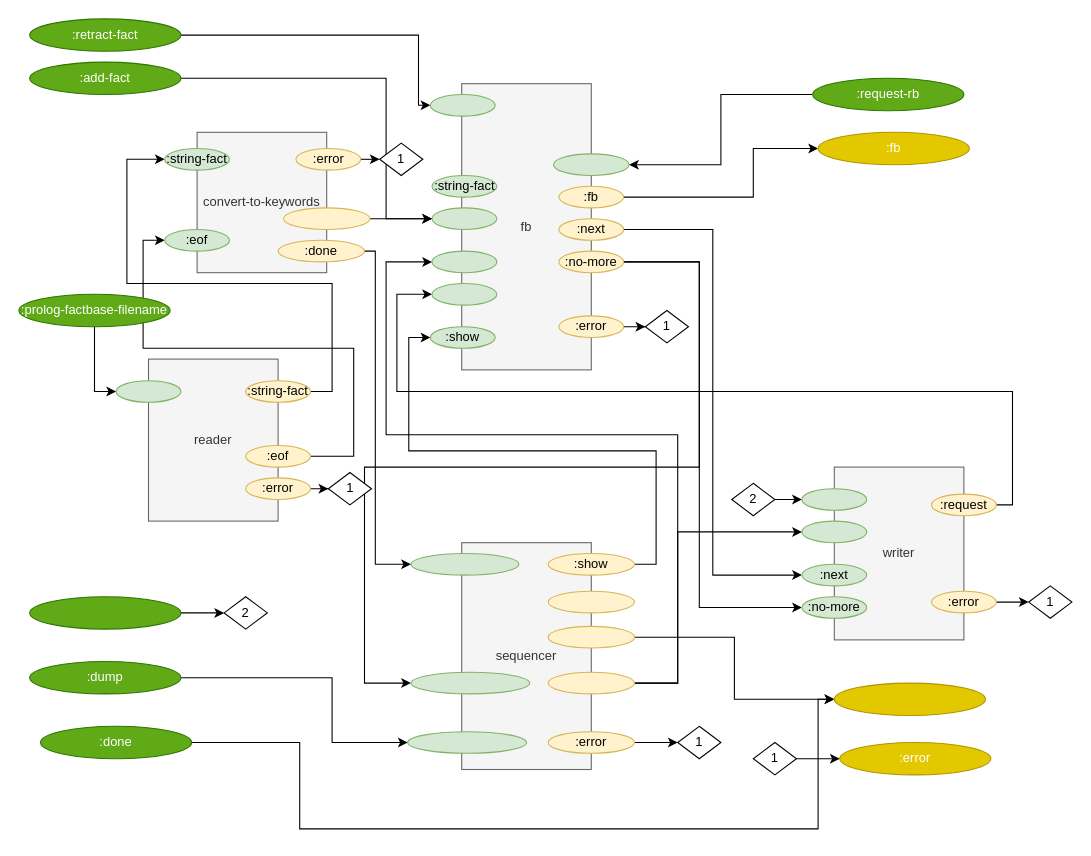
The diagram is 1091 pixels wide and 856 high, and some of its shapes have lost their labels. The centre of each missing label's shape, as x and y in pixels:
:converted: (x=326, y=218)
:fb-request: (x=590, y=164)
:file-name: (x=148, y=391)
:filename: (x=834, y=499)
:finished-pipeline: (x=466, y=742)
:finished-reading: (x=464, y=563)
:finished-writing: (x=470, y=682)
:get-next: (x=464, y=293)
:go: (x=909, y=699)
:iterate: (x=464, y=261)
:lisp-fact: (x=464, y=218)
:poke-fb: (x=590, y=601)
:prolog-output-filename: (x=105, y=612)
:retract: (x=462, y=104)
:run-pipeline: (x=590, y=636)
:start: (x=834, y=531)
:write: (x=590, y=682)
